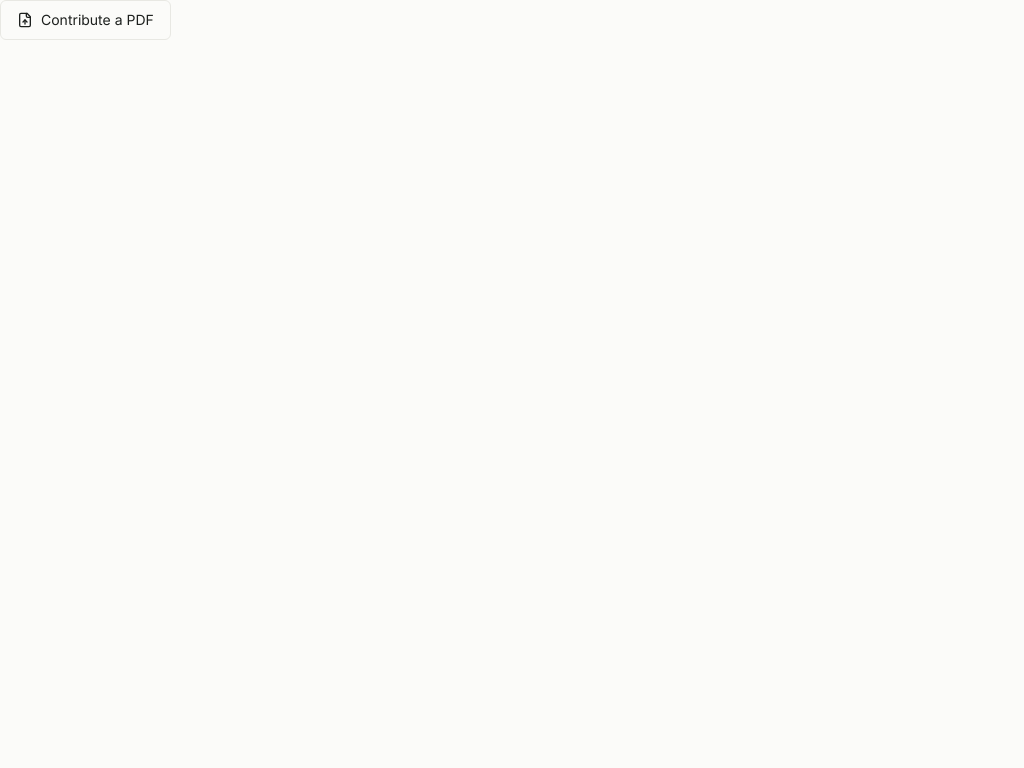
ContributeBookPdfDialog › rejects a file without a PDF signature before writing or uploading
Later steps or results of the test are not shown.
Click the button "Contribute a PDF": (85, 20) x1=0 y1=0 x2=171 y2=40
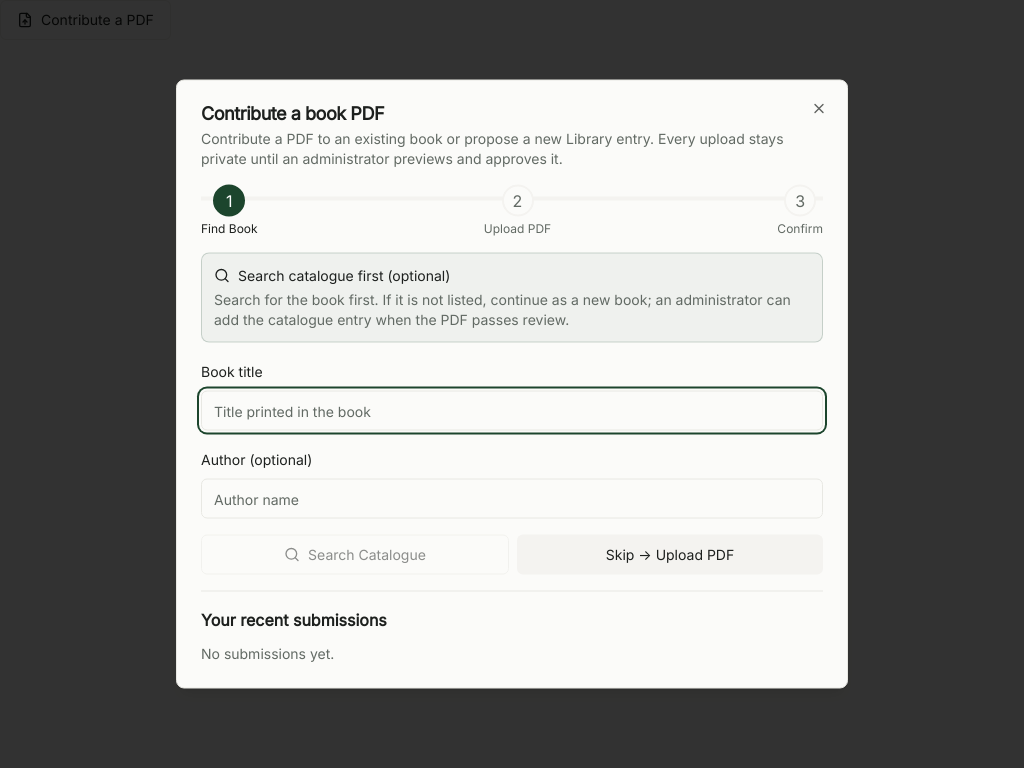
Click the button "Skip → Upload PDF": (670, 554) x1=517 y1=534 x2=823 y2=574
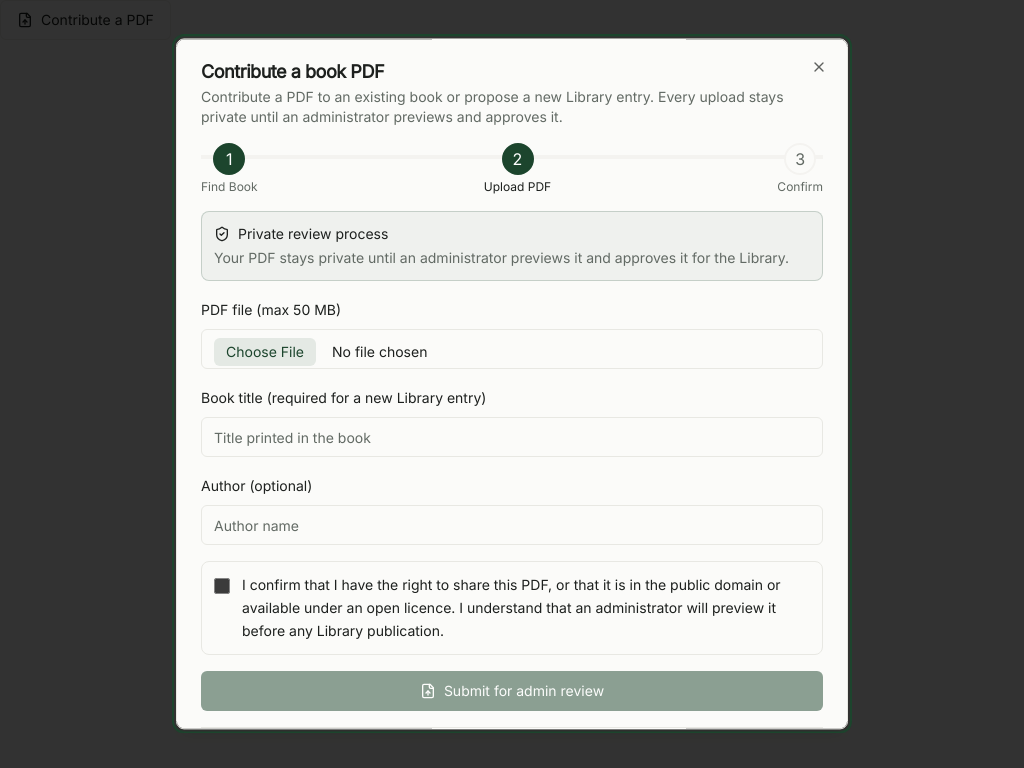
expect the file field labelled "PDF file (max 50 MB)" is shown: met, box x1=201 y1=329 x2=823 y2=369
